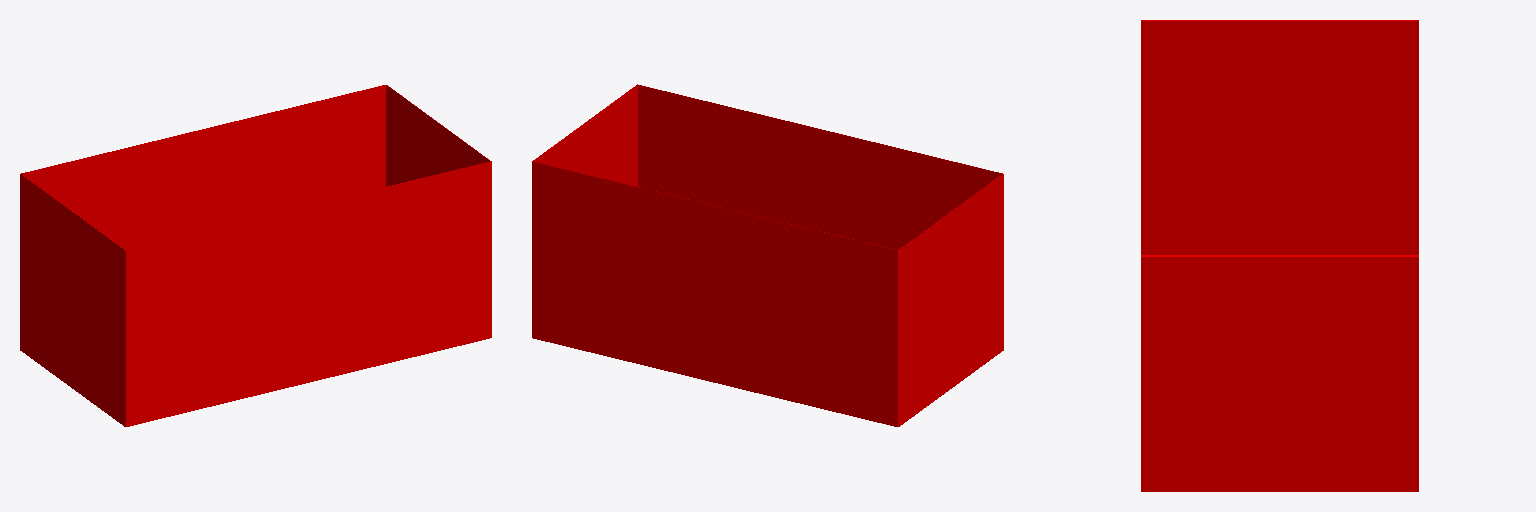
URDF robot description (square.urdf):
<?xml version="1.0" ?>
<robot name="square.urdf">
  <link name="baseLink">
    <contact>
      <lateral_friction value="1.0"/>
      <inertia_scaling value="3.0"/>
    </contact>
    <inertial>
      <origin rpy="0 0 0" xyz="0 0 0"/>
       <mass value=".1"/>
       <inertia ixx="1" ixy="0" ixz="0" iyy="1" iyz="0" izz="1"/>
    </inertial>
    <visual>
      <origin rpy="0 0 0" xyz="0 0 0"/>
      <geometry>
        <mesh filename="17.stl" scale="1 1 1" />
      </geometry>
      <material name="red">
        <color rgba="1 0 0 1"/>
      </material>
    </visual>
    <collision>
      <origin rpy="0 0 0" xyz="0 0 0"/>
      <geometry>
        <mesh filename="17_convex.obj" scale="1 1 1" />
      </geometry>
    </collision>
  </link>
</robot>

--- Render facts (derived) ---
The picture shows the robot from 3 angles, left to right: view 1: azimuth 30°, elevation 25°; view 2: azimuth 150°, elevation 25°; view 3: azimuth 270°, elevation 25°; orthographic projection.
Robot: square.urdf — 1 links, 0 joints (none); root link baseLink; default pose: all joints at 0.
Links seen in each view (by area): view 1: baseLink; view 2: baseLink; view 3: baseLink.
Boxes of the visible links, x1,y1,x2,y2 form: baseLink: (20, 85, 491, 426); baseLink: (532, 84, 1003, 426); baseLink: (1141, 20, 1418, 491).
Size in the robot's own frame: 0.962 by 0.4787 by 0.4442 metres.
1 mesh visuals loaded from 1 distinct referenced files (1 binary STL).